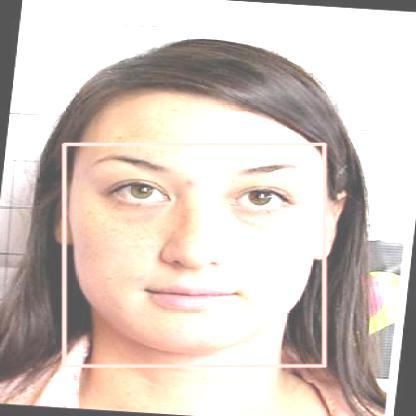without_mask: (64, 144, 324, 365)
